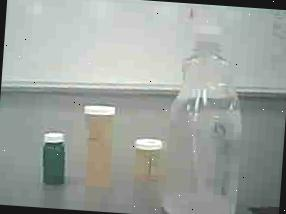Bottle A: (75, 100, 124, 192)
Bottle B: (130, 134, 167, 186)
Bottle C: (38, 128, 71, 188)
hazard: (166, 3, 260, 214)
